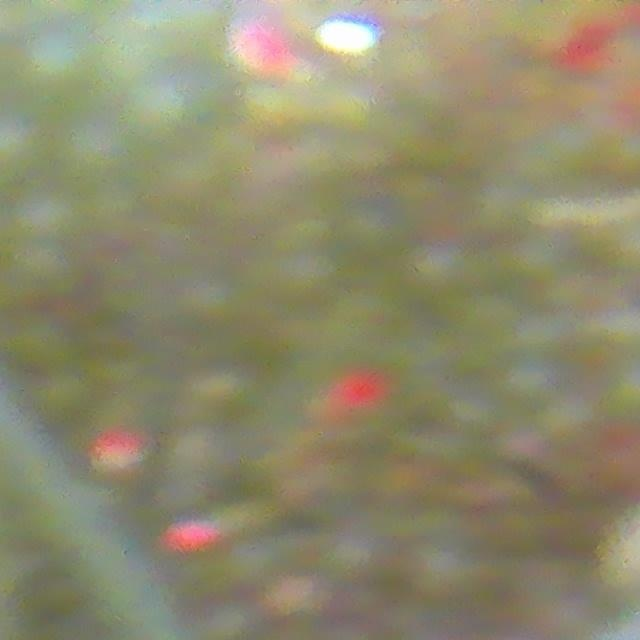SeaGrape: (19, 23, 97, 99), (16, 183, 85, 247), (0, 104, 47, 176)
